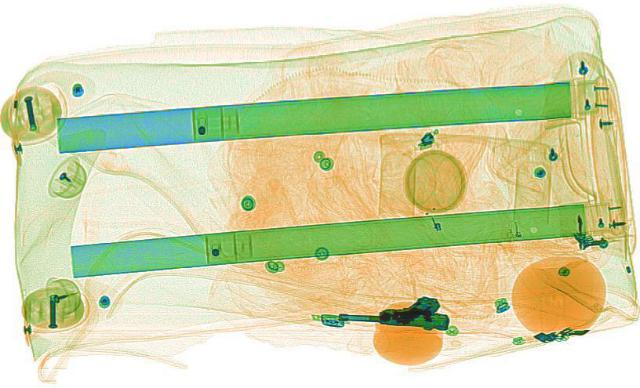Gun: (334, 294, 452, 329)
